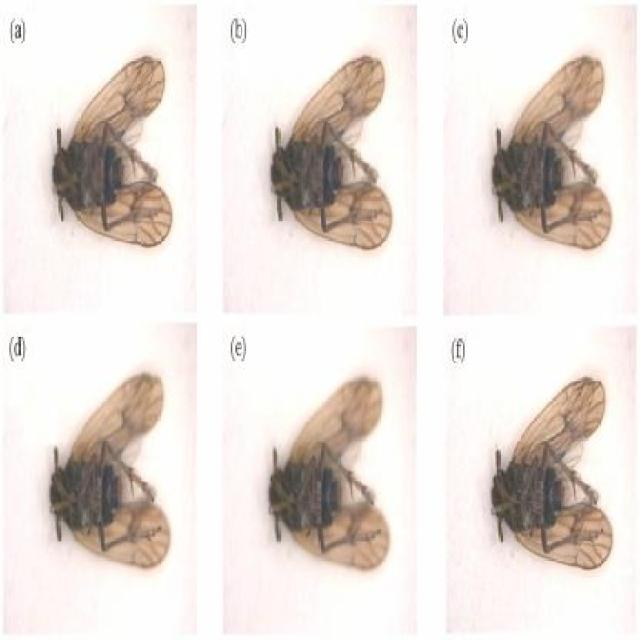brown-planthopper: (264, 362, 394, 573), (489, 359, 617, 573), (49, 356, 171, 578), (490, 44, 615, 258), (266, 49, 394, 251), (51, 51, 174, 252)
